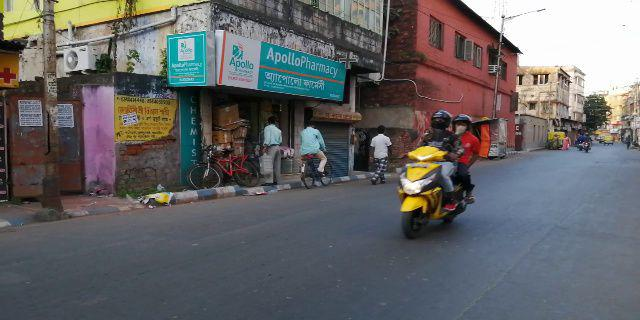Cycle: (185, 140, 263, 192), (297, 119, 335, 189)
Motorbike: (388, 106, 480, 240)
